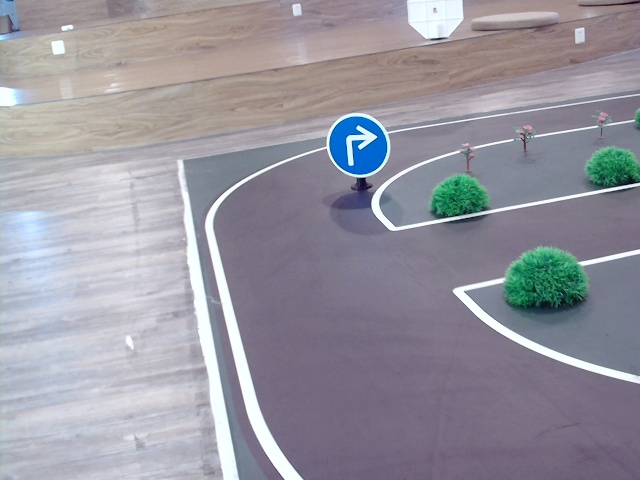turn_right: (340, 119, 376, 165)
